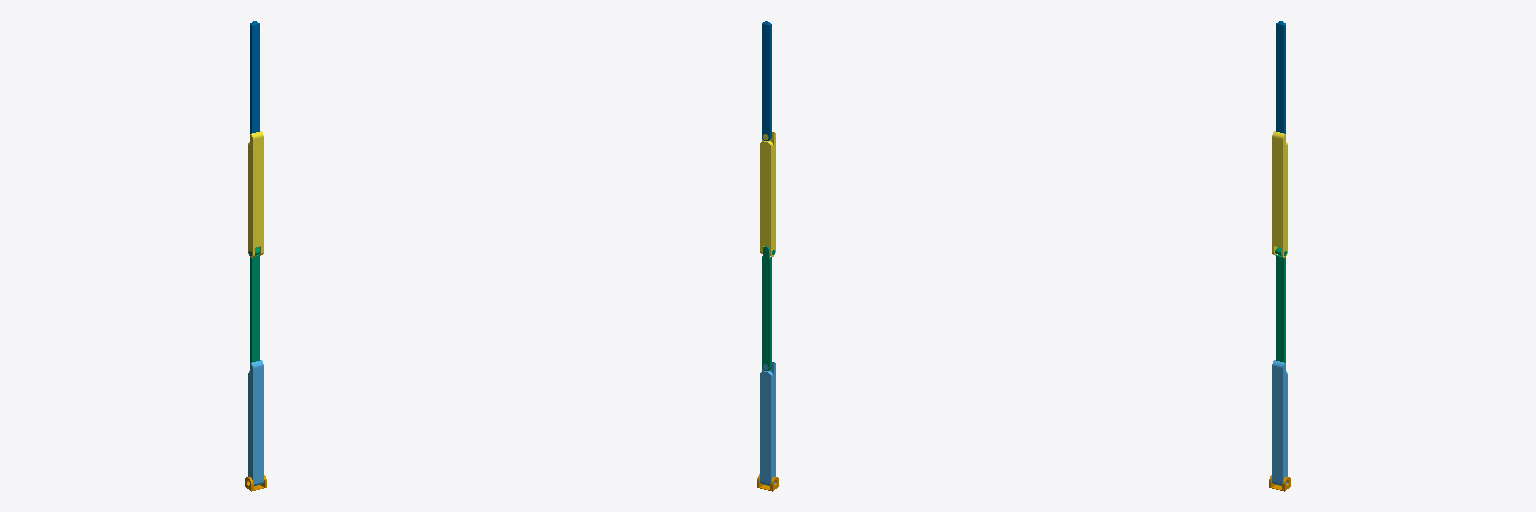
The robot description file, URDF, robot "mowito":
<?xml version='1.0' encoding='utf-8'?>
<robot name="mowito">
    <link name="base_link">
        <inertial>
            <origin xyz="1.391666279265011e-17 6.958331396325054e-18 0.04028457936000853" rpy="0.0 0.0 0.0" />
            <mass value="2.565102537617039" />
            <inertia ixx="0.004660661852312579" iyy="0.01104340974842587" izz="0.010938197210570521" ixy="7.139533408917486e-18" iyz="-2.1367806130545733e-18" ixz="1.0158819241345808e-20" />
        </inertial>
        <visual name="base_link_visual">
            <origin xyz="0.0 0.0 0.0" rpy="0.0 0.0 0.0" />
            <geometry>
                <mesh filename="meshes/base_link.stl" scale="0.001 0.001 0.001" />
            </geometry>
        </visual>
        <collision name="base_link_collision">
            <origin xyz="0.0 0.0 0.0" rpy="0.0 0.0 0.0" />
            <geometry>
                <mesh filename="meshes/base_link.stl" scale="0.001 0.001 0.001" />
            </geometry>
        </collision>
    </link>
    <link name="link1">
        <inertial>
            <origin xyz="0.4983426175711312 -0.00045323171255939323 -0.05000000000000002" rpy="0.0 -0.0 0.0" />
            <mass value="57.98625209245303" />
            <inertia ixx="0.07386094697391081" iyy="5.022245077293352" izz="5.0005924709895275" ixy="0.012762031645780903" iyz="2.3364244981143746e-17" ixz="-6.314781564190897e-16" />
        </inertial>
        <visual name="link1_visual">
            <origin xyz="-0.054458000000000006 0.0 -0.05" rpy="-0.0 1.5707963267948966 0" />
            <geometry>
                <mesh filename="meshes/link1.stl" scale="0.001 0.001 0.001" />
            </geometry>
        </visual>
        <collision name="link1_collision">
            <origin xyz="-0.054458000000000006 0.0 -0.05" rpy="-0.0 1.5707963267948966 0" />
            <geometry>
                <mesh filename="meshes/link1.stl" scale="0.001 0.001 0.001" />
            </geometry>
        </collision>
    </link>
    <link name="link2">
        <inertial>
            <origin xyz="-3.518962364432059e-05 -0.5170945094746654 -0.01918160890343544" rpy="0.0 -0.0 0.0" />
            <mass value="22.165235100014833" />
            <inertia ixx="1.990000566306385" iyy="0.013611170584366856" izz="1.9977182259554453" ixy="-0.0003664756982691786" iyz="-0.008879404322027273" ixz="7.665127442006259e-06" />
        </inertial>
        <visual name="link2_visual">
            <origin xyz="0.0 1.05452902 -0.036661" rpy="1.5707963267948966 -0.0 0.0" />
            <geometry>
                <mesh filename="meshes/link2.stl" scale="0.001 0.001 0.001" />
            </geometry>
        </visual>
        <collision name="link2_collision">
            <origin xyz="0.0 1.05452902 -0.036661" rpy="1.5707963267948966 -0.0 0.0" />
            <geometry>
                <mesh filename="meshes/link2.stl" scale="0.001 0.001 0.001" />
            </geometry>
        </collision>
    </link>
    <link name="link3">
        <inertial>
            <origin xyz="0.515942798944908 -0.00046986946118060367 -0.05006139451899962" rpy="0.0 -0.0 0.0" />
            <mass value="55.93299950741253" />
            <inertia ixx="0.07225492211259768" iyy="4.5308599455561875" izz="4.508711648317501" ixy="0.012299477604955061" iyz="1.6134499748748106e-06" ixz="-0.0017067821668869977" />
        </inertial>
        <visual name="link3_visual">
            <origin xyz="-2.0427704400000004 0.0 -0.05000000274606609" rpy="-0.0 1.5707963267948966 0" />
            <geometry>
                <mesh filename="meshes/link3.stl" scale="0.001 0.001 0.001" />
            </geometry>
        </visual>
        <collision name="link3_collision">
            <origin xyz="-2.0427704400000004 0.0 -0.05000000274606609" rpy="-0.0 1.5707963267948966 0" />
            <geometry>
                <mesh filename="meshes/link3.stl" scale="0.001 0.001 0.001" />
            </geometry>
        </collision>
    </link>
    <link name="link4">
        <inertial>
            <origin xyz="2.7461476104937648e-09 -0.48991434252029537 -0.018330499999999982" rpy="0.0 -0.0 0.0" />
            <mass value="20.994905999390895" />
            <inertia ixx="1.6959571564881912" iyy="0.012089632039375764" izz="1.703362364617874" ixy="-8.383234732756931e-13" iyz="2.220446049250313e-16" ixz="6.363480600035741e-18" />
        </inertial>
        <visual name="link4_visual">
            <origin xyz="-2.3e-07 3.0428414600000004 -0.036661" rpy="1.5707963267948966 -0.0 0.0" />
            <geometry>
                <mesh filename="meshes/link4.stl" scale="0.001 0.001 0.001" />
            </geometry>
        </visual>
        <collision name="link4_collision">
            <origin xyz="-2.3e-07 3.0428414600000004 -0.036661" rpy="1.5707963267948966 -0.0 0.0" />
            <geometry>
                <mesh filename="meshes/link4.stl" scale="0.001 0.001 0.001" />
            </geometry>
        </collision>
    </link>
    <link name="endpoint">
        <inertial>
            <origin xyz="2.746175887550771e-09 3.552713678800501e-17 0.0004999986408682844" rpy="0.0 -0.0 0.0" />
            <mass value="2.7189306319575706e-05" />
            <inertia ixx="9.759826519011028e-12" iyy="9.759828578995156e-12" izz="1.4988104140788372e-11" ixy="2.234558954565247e-25" iyz="4.235164736271502e-22" ixz="6.462348535570529e-27" />
        </inertial>
        <visual name="endpoint_visual">
            <origin xyz="2.7460660911384594e-09 -0.12499999999999997 -1.3591323977379944e-09" rpy="0.0 -0.0 0.0" />
            <geometry>
                <mesh filename="meshes/endpoint.stl" scale="0.001 0.001 0.001" />
            </geometry>
        </visual>
        <collision name="endpoint_collision">
            <origin xyz="2.7460660911384594e-09 -0.12499999999999997 -1.3591323977379944e-09" rpy="0.0 -0.0 0.0" />
            <geometry>
                <mesh filename="meshes/endpoint.stl" scale="0.001 0.001 0.001" />
            </geometry>
        </collision>
    </link>
    <joint name="base_link_Revolute-1" type="continuous">
        <origin xyz="-0.05 0.0 0.054458000000000006" rpy="-0.0 -1.5707963267948966 0" />
        <parent link="base_link" />
        <child link="link1" />
        <axis xyz="0.0 0.0 1.0" />
    </joint>
    <joint name="link1_Revolute-2" type="continuous">
        <origin xyz="1.0000710199999998 0.036661 -0.05" rpy="-1.5707963267948966 1.5707963267948966 0" />
        <parent link="link1" />
        <child link="link2" />
        <axis xyz="0.0 0.0 1.0" />
    </joint>
    <joint name="link2_Revolute-3" type="continuous">
        <origin xyz="-0.049999770000000006 -0.9882414199999999 -0.036661" rpy="1.5707963267948966 -0.0 -1.5707963267948966" />
        <parent link="link2" />
        <child link="link3" />
        <axis xyz="0.0 0.0 1.0" />
    </joint>
    <joint name="link3_Revolute-6" type="continuous">
        <origin xyz="1.0000710200000003 0.036661 -0.05" rpy="-1.5707963267948966 1.5707963267948966 0" />
        <parent link="link3" />
        <child link="link4" />
        <axis xyz="0.0 0.0 1.0" />
    </joint>
    <joint name="link4_Rigid-7" type="fixed">
        <origin xyz="0.0 -0.99899497 -0.0183305" rpy="1.5707963267948966 -0.0 0.0" />
        <parent link="link4" />
        <child link="endpoint" />
    </joint>
</robot>

--- What the picture shows (computed from the rendered views, not written in the file) ---
Views: 3 orthographic renders of the robot side by side, from view 1: azimuth 30°, elevation 25°; view 2: azimuth 150°, elevation 25°; view 3: azimuth 330°, elevation 25°.
Model mowito with 6 links and 5 joints (4 continuous, 1 fixed), rooted at base_link, posed all joints at 0.
Visible links, largest first — view 1: link1, link3, link4, link2; view 2: link1, link3, link2, link4; view 3: link1, link3, link4, link2.
Boxes of the visible links, box(x1,y1,x2,y2) form: link1: box(248, 360, 263, 485); link3: box(248, 131, 263, 257); link4: box(250, 21, 259, 133); link2: box(249, 247, 259, 362); link1: box(760, 362, 775, 485); link3: box(760, 132, 775, 256); link2: box(762, 246, 774, 370); link4: box(762, 21, 771, 140); link1: box(1272, 360, 1287, 485); link3: box(1272, 131, 1287, 257); link4: box(1276, 21, 1285, 133); link2: box(1275, 247, 1286, 362).
Size in the robot's own frame: 0.14 by 0.1 by 4.04 metres.
Meshes: 6 distinct files referenced, 6 mesh visuals loaded (6 binary STL).
